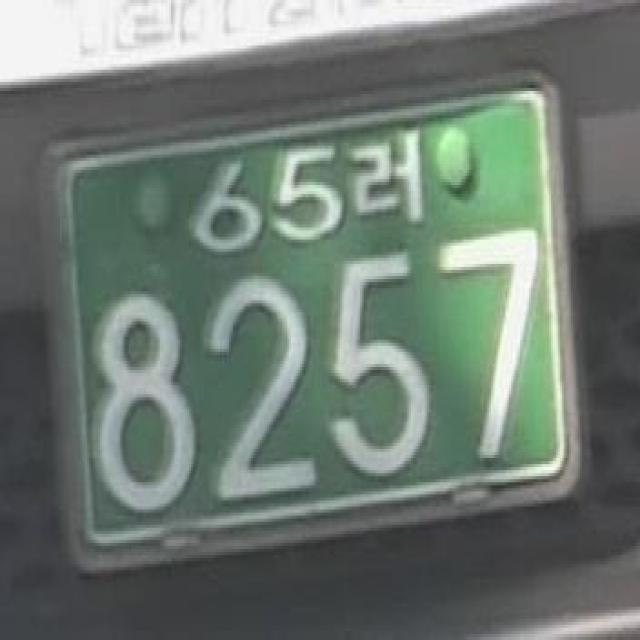illegal_plate: (52, 79, 594, 578)
